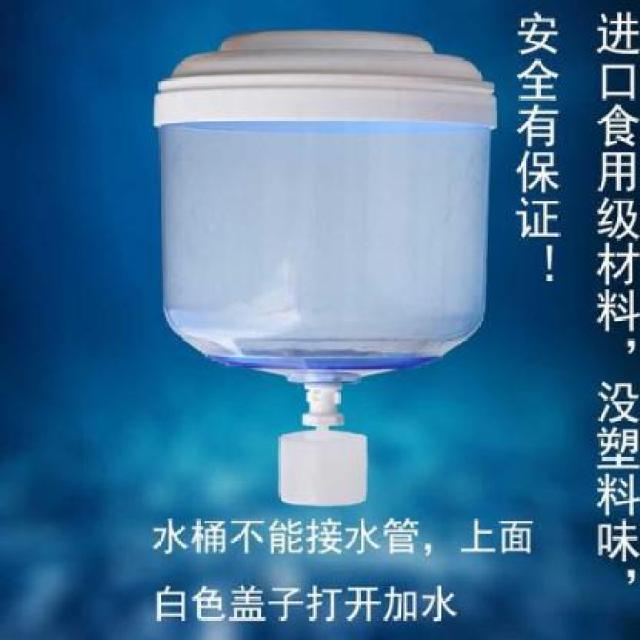coolerbottle: (146, 25, 505, 388)
